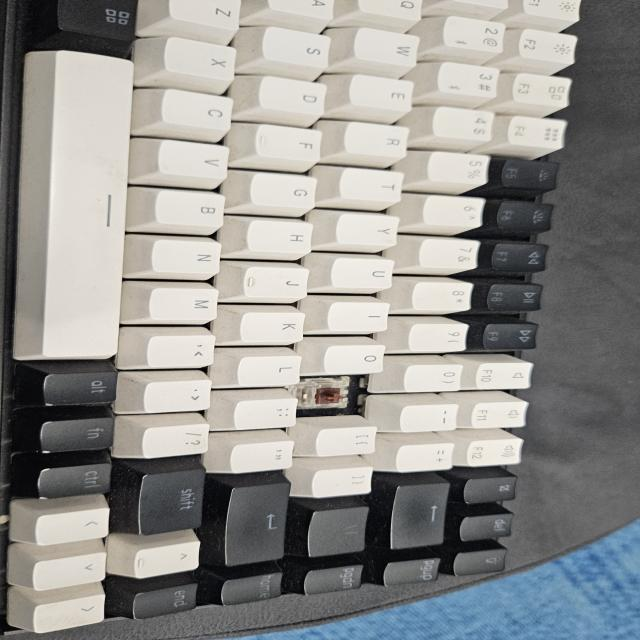C: (300, 378, 358, 412)
